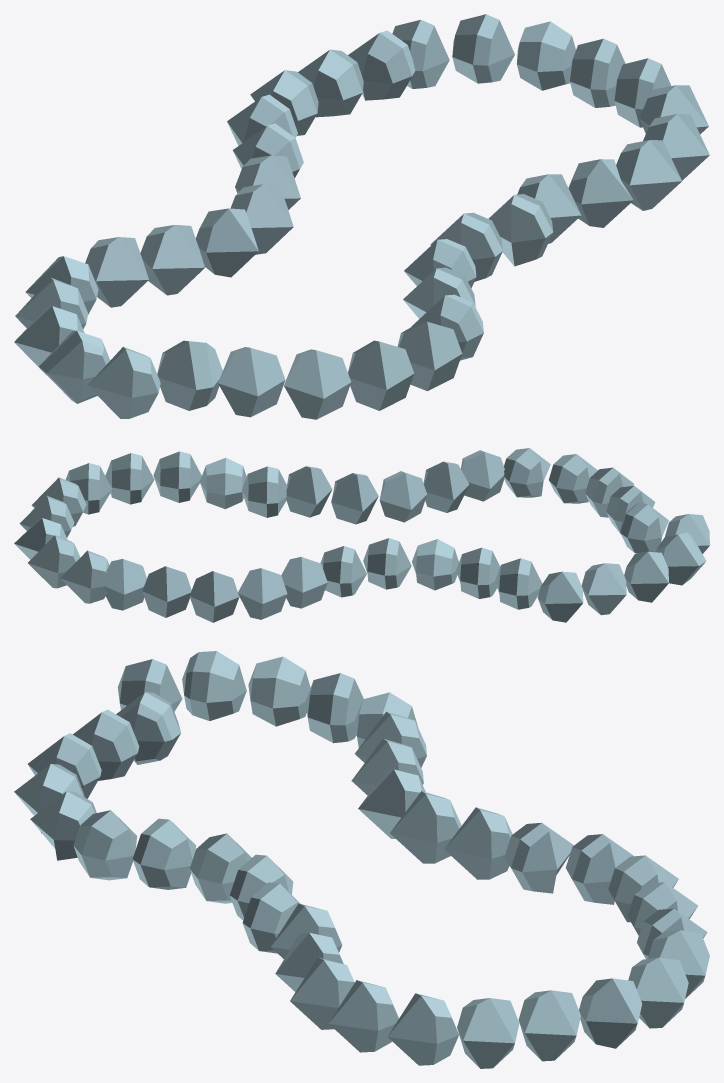
The model's file is Bedroom_2_Pearls.fbx.
3 renders of one model, top to bottom at view 1: azimuth 30°, elevation 25°; view 2: azimuth 150°, elevation 25°; view 3: azimuth 270°, elevation 25°, orthographic. The views are drawn at different scales.
Parts seen in each view (by area): view 1: Bedroom_2_Pearls; view 2: Bedroom_2_Pearls; view 3: Bedroom_2_Pearls.
Boxes of the visible parts, x1,y1,x2,y2 form: Bedroom_2_Pearls: [14, 14, 709, 419]; Bedroom_2_Pearls: [14, 448, 709, 622]; Bedroom_2_Pearls: [14, 651, 709, 1068].
Bounding box in the file's own units: 35.28 × 3.39 × 27.45.
